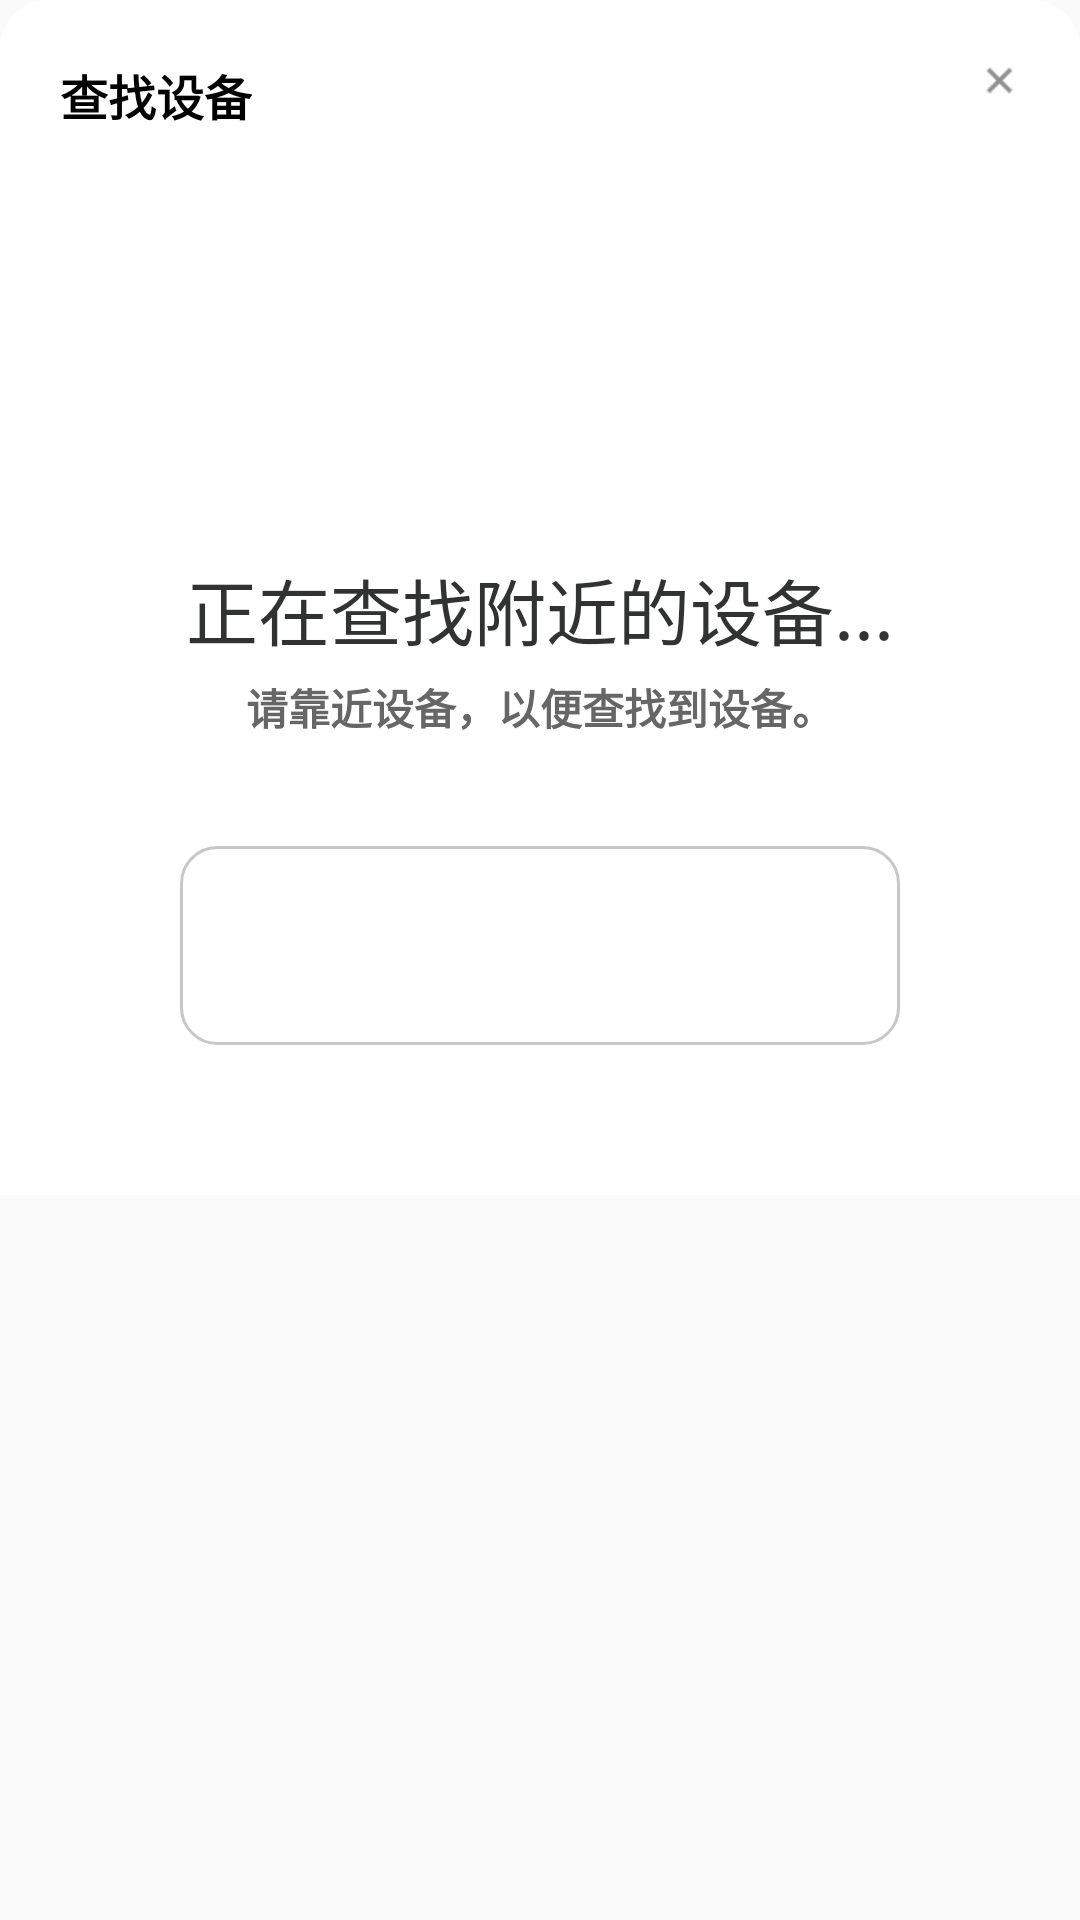

Screen size 1080*1920. Icon name, then its center in pixels as (x,y):
close: (999,80)
